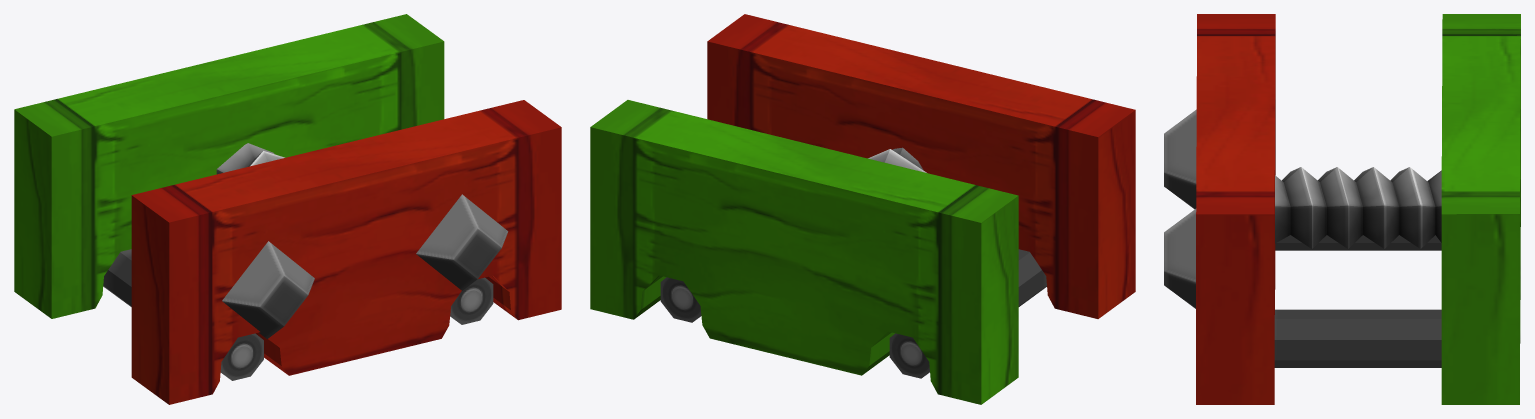
Rendered from dynamic_fence_burger_01.fbx.
The picture shows the model from 3 angles, left to right: view 1: azimuth 30°, elevation 25°; view 2: azimuth 150°, elevation 25°; view 3: azimuth 270°, elevation 25°; orthographic projection. The views are drawn at different scales.
Parts seen in each view (by area): view 1: front_wall_14, back_wall_10, spring_22; view 2: back_wall_10, front_wall_14, spring_22; view 3: back_wall_10, front_wall_14, spring_22.
Boxes of the visible parts, x1,y1,x2,y2 form: front_wall_14: (131,100,561,404); back_wall_10: (14,14,493,380); spring_22: (216,143,284,174); back_wall_10: (590,100,1046,404); front_wall_14: (707,14,1135,318); spring_22: (868,147,926,172); back_wall_10: (1274,14,1520,404); front_wall_14: (1164,14,1275,404); spring_22: (1275,167,1441,248).
Bounding box in the file's own units: 90.02 × 40 × 67.83.
